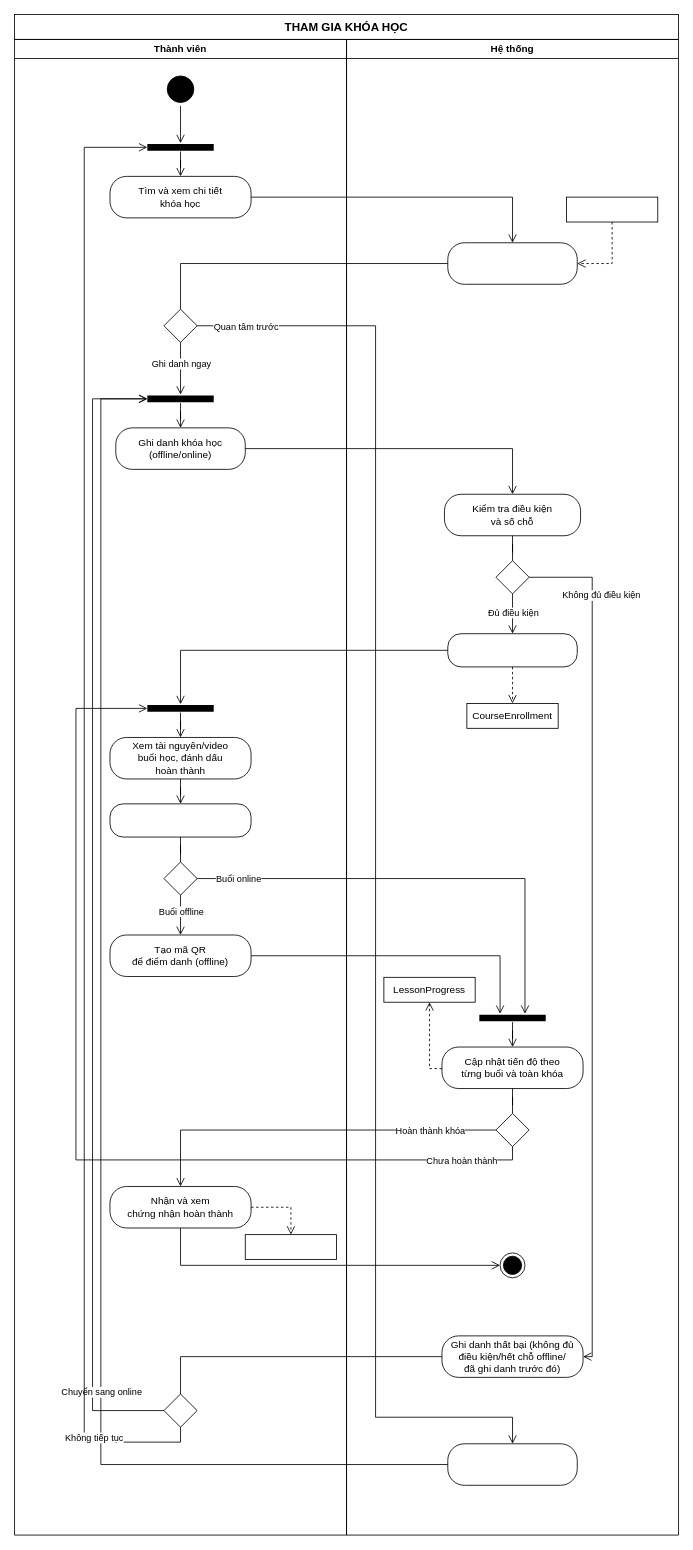
This 693x1550 diagram has some shape labels left out. The centre of each missing label's shape, as x and y in pixels:
"Course" belongs at (x=612, y=209).
"CourseCertificate" belongs at (x=290, y=1247).
"Ghi danh khóa học" belongs at (x=512, y=650).
"Hiển thị chi tiết khóa học" belongs at (x=512, y=263).
"Nộp bài tập / làm quiz" belongs at (x=180, y=820).
"Đánh dấu quan tâm khóa học" belongs at (x=512, y=1464).
